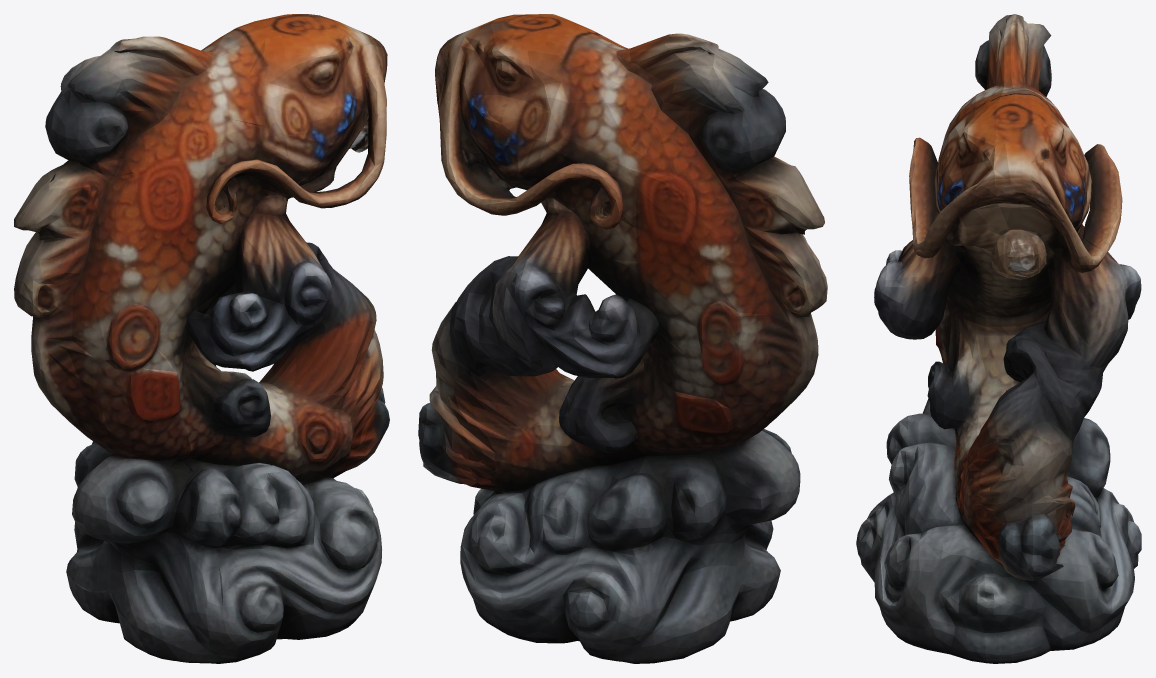
Rendered from glimmerkoi.glb.
3 renders of one model, left to right at view 1: azimuth 30°, elevation 25°; view 2: azimuth 150°, elevation 25°; view 3: azimuth 270°, elevation 25°, orthographic. The views are drawn at different scales.
Visible parts, largest first — view 1: world; view 2: world; view 3: world.
Part boxes in pixels (x1,y1,x2,y2): world: (14, 14, 389, 663); world: (418, 14, 827, 663); world: (856, 14, 1141, 663).
Bounding box in the file's own units: 0.6659 × 0.9659 × 0.4558.
Materials: 1 (1 with a texture image).
